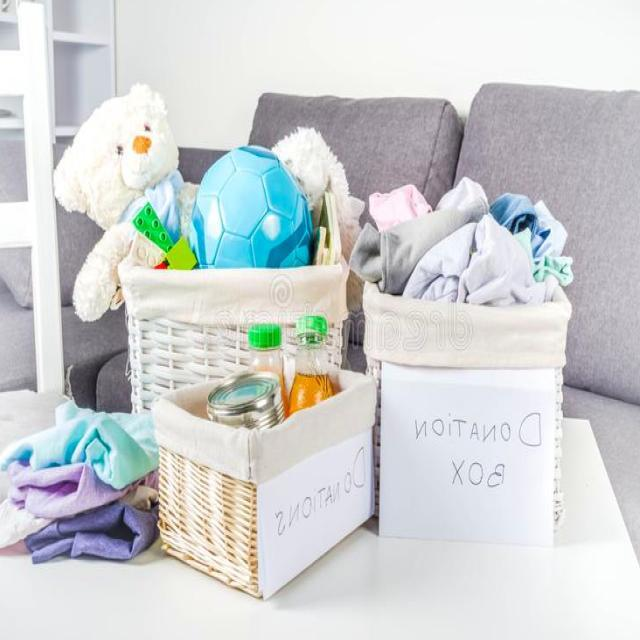clothes: (0, 424, 138, 574), (387, 211, 558, 294)
